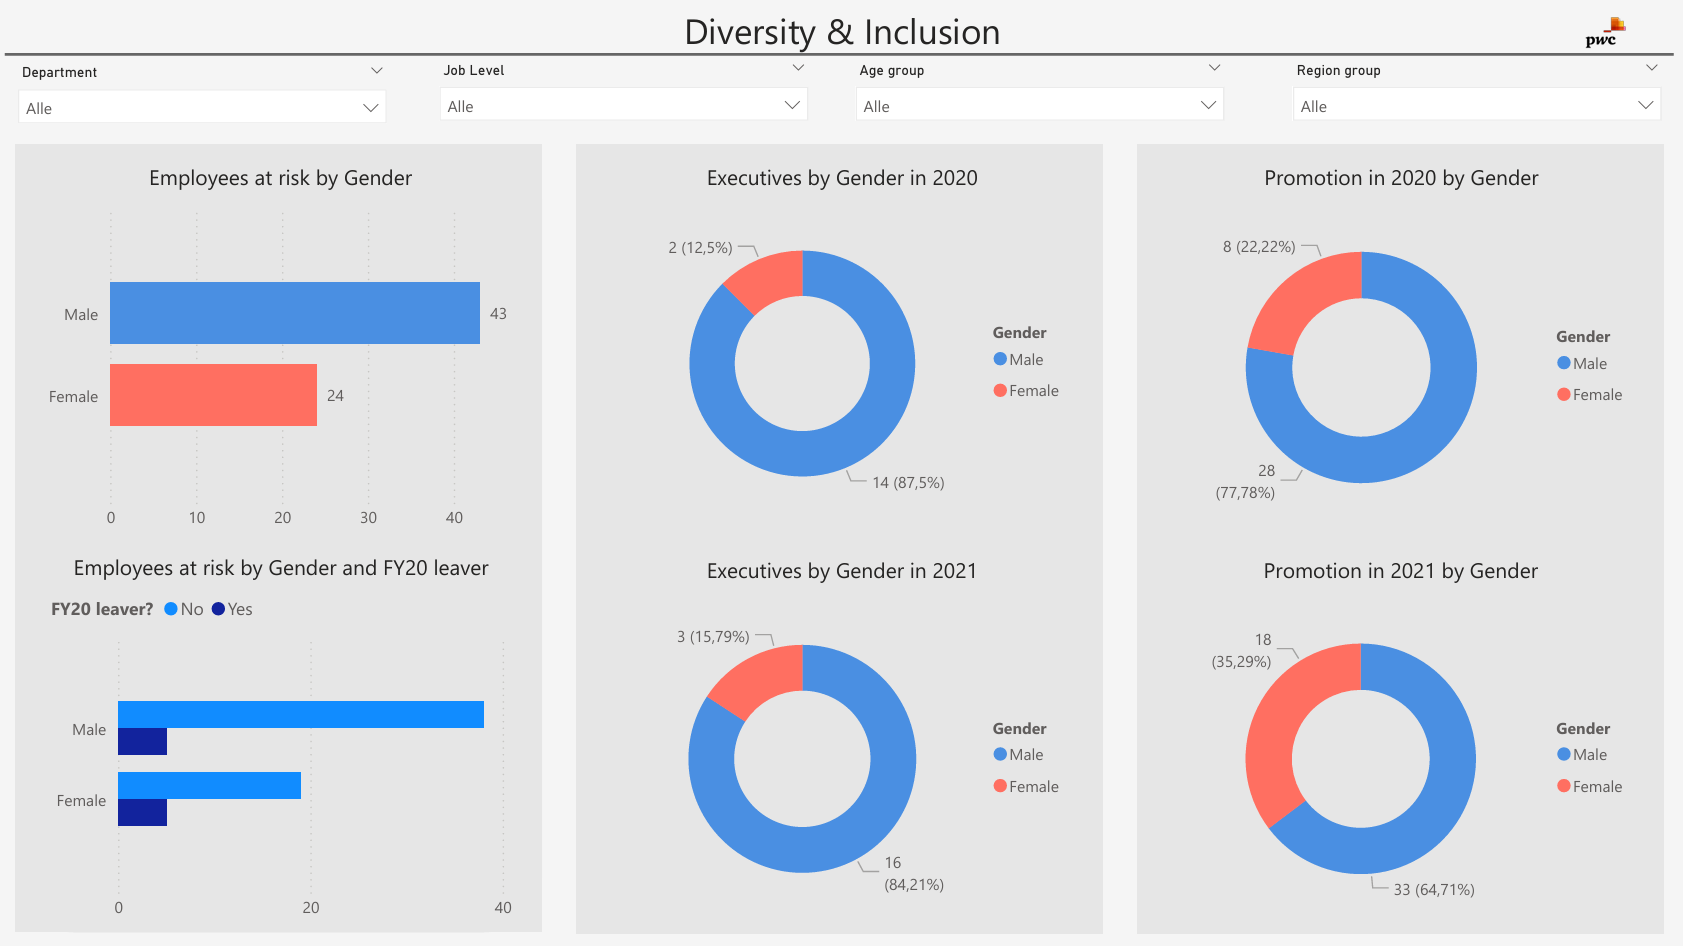

Layout of this report page (visuals, bound fields, positions):
{"tool":"powerbi","page":{"name":"Employee at risk","canvas":[1280,720],"ordinal":1},"visuals":[{"type":"shape","box":[12,110.1,400,597.8],"z":0},{"type":"shape","box":[438.1,110.1,400,598.9],"z":1000},{"type":"shape","box":[864.1,110.1,400,598.9],"z":2000},{"type":"donutChart","title":"Executives by Gender in 2021","fields":{"Category":["Pharma Group AG.Gender"],"Y":["Tabelle.Executives"]},"box":[460.2,421.6,360,286.4],"z":3000},{"type":"donutChart","title":"Executives by Gender in 2020","fields":{"Category":["Pharma Group AG.Gender"],"Y":["Tabelle.Executives 20"]},"box":[460.2,124.1,360,281.8],"z":4000},{"type":"clusteredBarChart","title":"Employees at risk by Gender","fields":{"Category":["Pharma Group AG.Gender"],"Y":["Tabelle.Employees at risk"]},"box":[27.6,124.1,371.5,287.9],"z":5000},{"type":"clusteredBarChart","title":"Employees at risk by Gender and FY20 leaver","fields":{"Series":["Pharma Group AG.FY20 leaver?"],"Category":["Pharma Group AG.Gender"],"Y":["Tabelle.Employees at risk"]},"box":[34.5,419.7,359.4,288.7],"z":6000},{"type":"donutChart","title":"Promotion in 2020 by Gender","fields":{"Category":["Pharma Group AG.Gender"],"Y":["Tabelle.Promotion in 2020"]},"box":[880.8,124.1,367.1,287.9],"z":7000},{"type":"donutChart","title":"Promotion in 2021 by Gender","fields":{"Category":["Pharma Group AG.Gender"],"Y":["Tabelle.Promotion in 2021"]},"box":[880,422.3,368,285.3],"z":8000},{"type":"slicer","fields":{"Values":["Pharma Group AG.Department @01.07.2020"]},"box":[4,44.4,299.9,63.2],"z":9000},{"type":"slicer","fields":{"Values":["Pharma Group AG.Job Level after FY20 promotions"]},"box":[324.1,41.7,299.9,63.2],"z":10000},{"type":"slicer","fields":{"Values":["Pharma Group AG.Age group"]},"box":[640.1,41.7,299.9,63.2],"z":11000},{"type":"slicer","fields":{"Values":["Pharma Group AG.Region group: nationality 1"]},"box":[972.3,41.7,299.9,63.2],"z":12000},{"type":"textbox","box":[4,0,1272.1,47.1],"z":13000},{"type":"image","box":[1165.9,0,106.2,49.8],"z":14000},{"type":"shape","box":[4,36.3,1266.8,10.8],"z":15000}]}

Visuals, with their boxes in screenshot pixels (x1, y1, x2, y2), scaled from the page's 1280x720 canvas onto the 1683x946 screenshot:
shape: select_region(16, 145, 542, 930)
shape: select_region(576, 145, 1102, 932)
shape: select_region(1136, 145, 1662, 932)
"Executives by Gender in 2021" donutChart: select_region(605, 554, 1078, 930)
"Executives by Gender in 2020" donutChart: select_region(605, 163, 1078, 533)
"Employees at risk by Gender" clusteredBarChart: select_region(36, 163, 525, 541)
"Employees at risk by Gender and FY20 leaver" clusteredBarChart: select_region(45, 551, 518, 931)
"Promotion in 2020 by Gender" donutChart: select_region(1158, 163, 1641, 541)
"Promotion in 2021 by Gender" donutChart: select_region(1157, 555, 1641, 930)
slicer - Pharma Group AG.Department @01.07.2020: select_region(5, 58, 400, 141)
slicer - Pharma Group AG.Job Level after FY20 promotions: select_region(426, 55, 820, 138)
slicer - Pharma Group AG.Age group: select_region(842, 55, 1236, 138)
slicer - Pharma Group AG.Region group: nationality 1: select_region(1278, 55, 1673, 138)
textbox: select_region(5, 0, 1678, 62)
image: select_region(1533, 0, 1673, 65)
shape: select_region(5, 48, 1671, 62)
